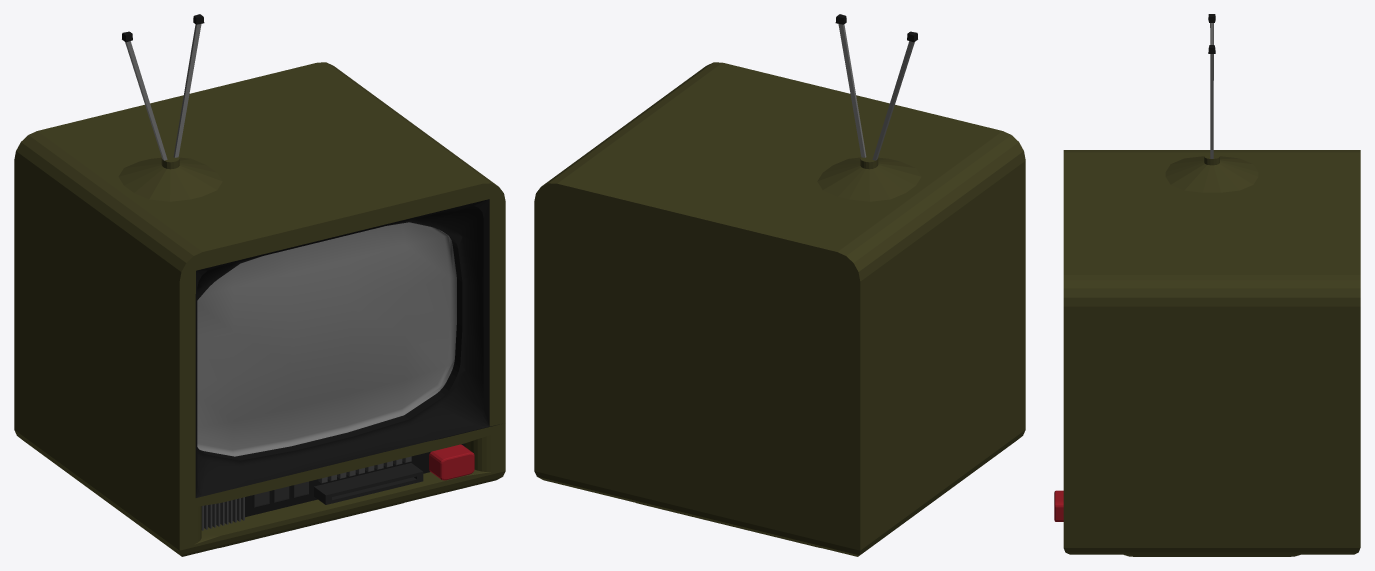
3 views of the same model, side by side, from view 1: azimuth 30°, elevation 25°; view 2: azimuth 150°, elevation 25°; view 3: azimuth 270°, elevation 25° (orthographic). The views are drawn at different scales.
Visible parts, largest first — view 1: Chassis, Lecteur, Bouton, Aeration, Boutons2; view 2: Chassis; view 3: Chassis.
Part boxes in pixels (box(x1,y1,x2,y2)): Chassis: box(14, 14, 505, 556); Lecteur: box(314, 463, 423, 504); Bouton: box(429, 444, 474, 480); Aeration: box(201, 497, 244, 530); Boutons2: box(252, 481, 308, 507); Chassis: box(534, 14, 1025, 556); Chassis: box(1063, 14, 1360, 556).
Size of the model in its own units: 2.28 by 3.25 by 2.06.
